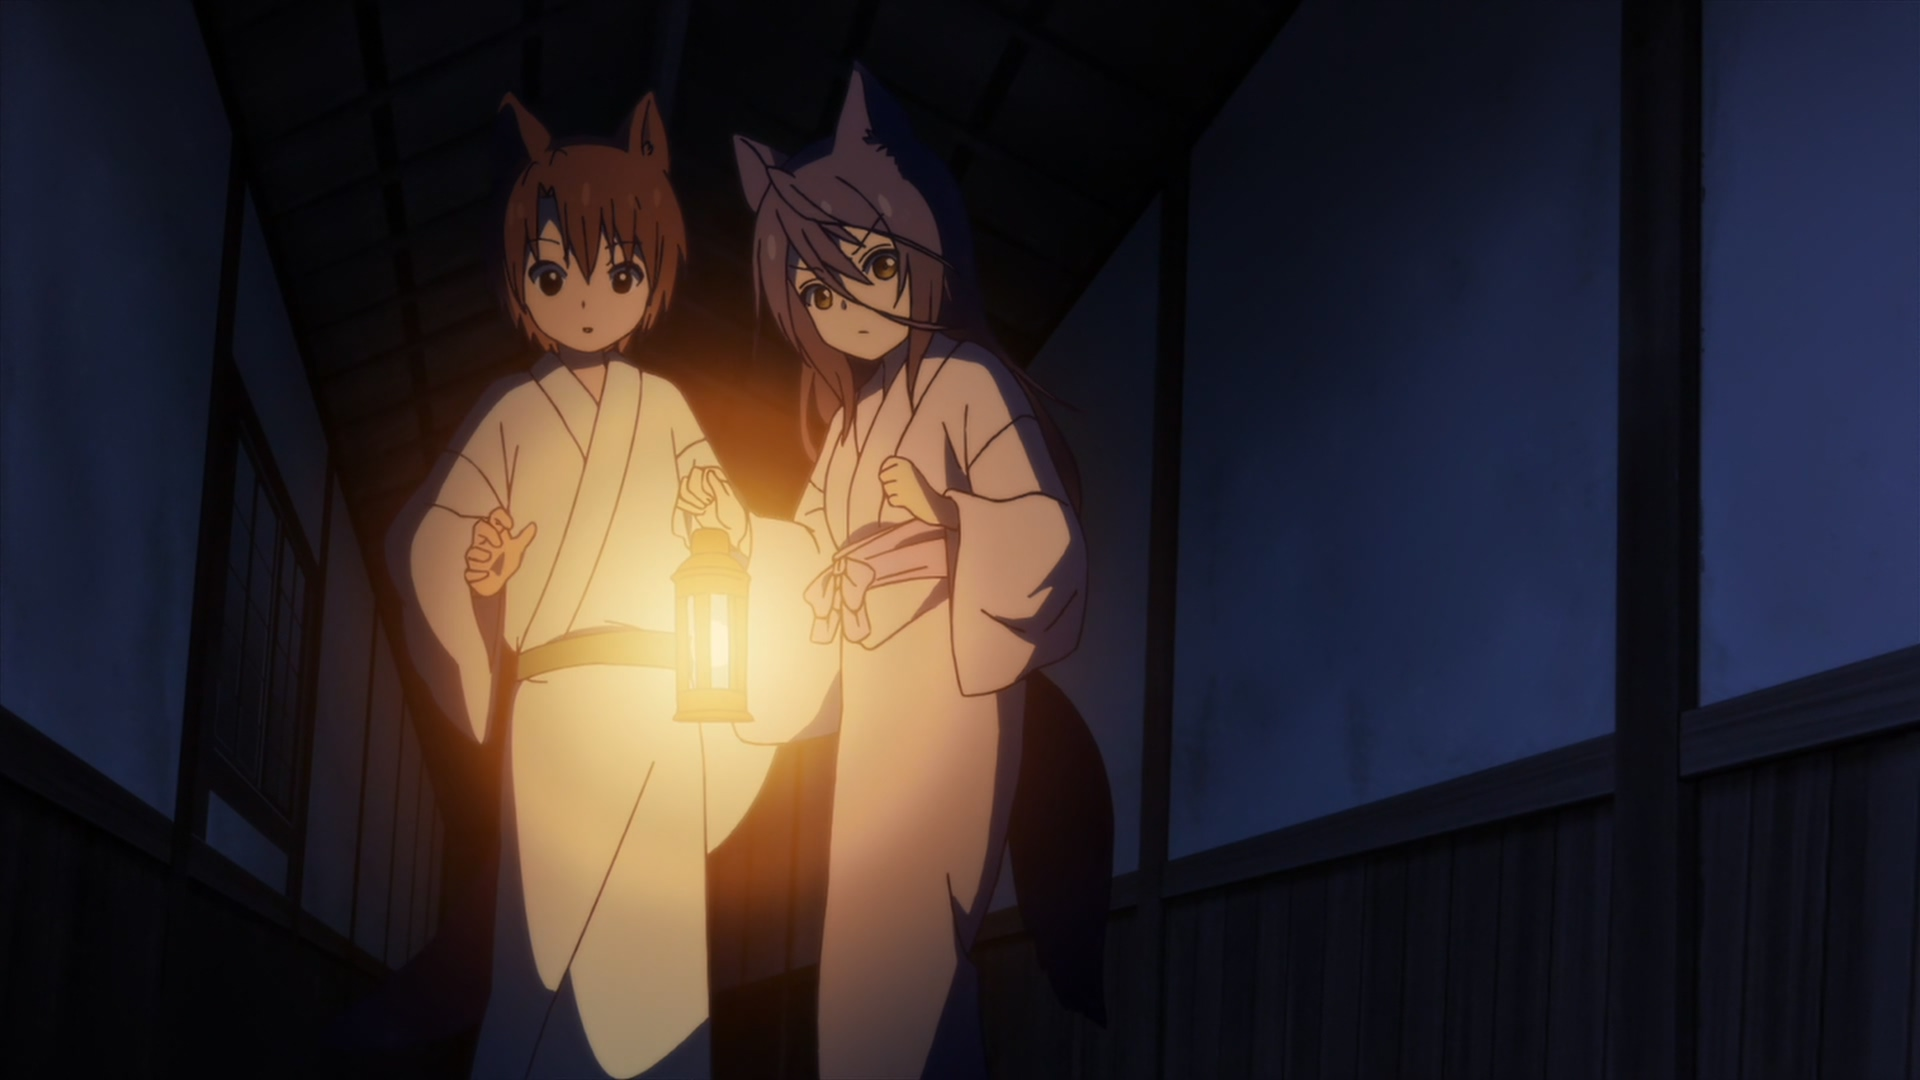枣: (392, 91, 781, 1080)
皋: (674, 67, 1116, 1080)
